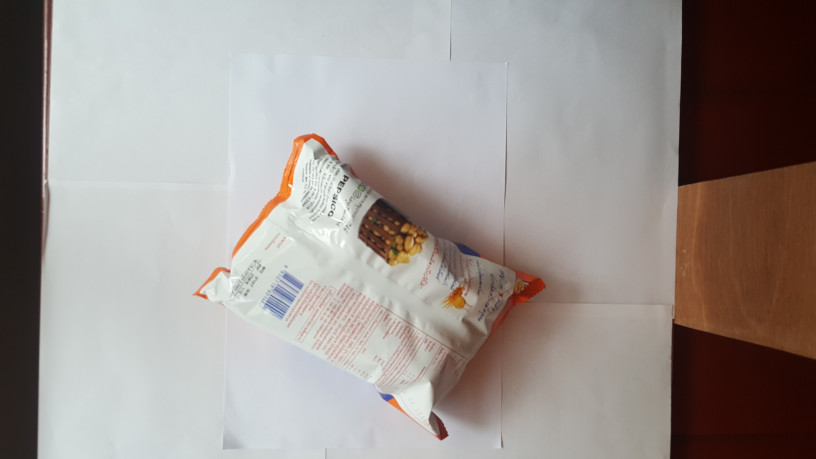lays-bbq: (186, 129, 547, 441)
